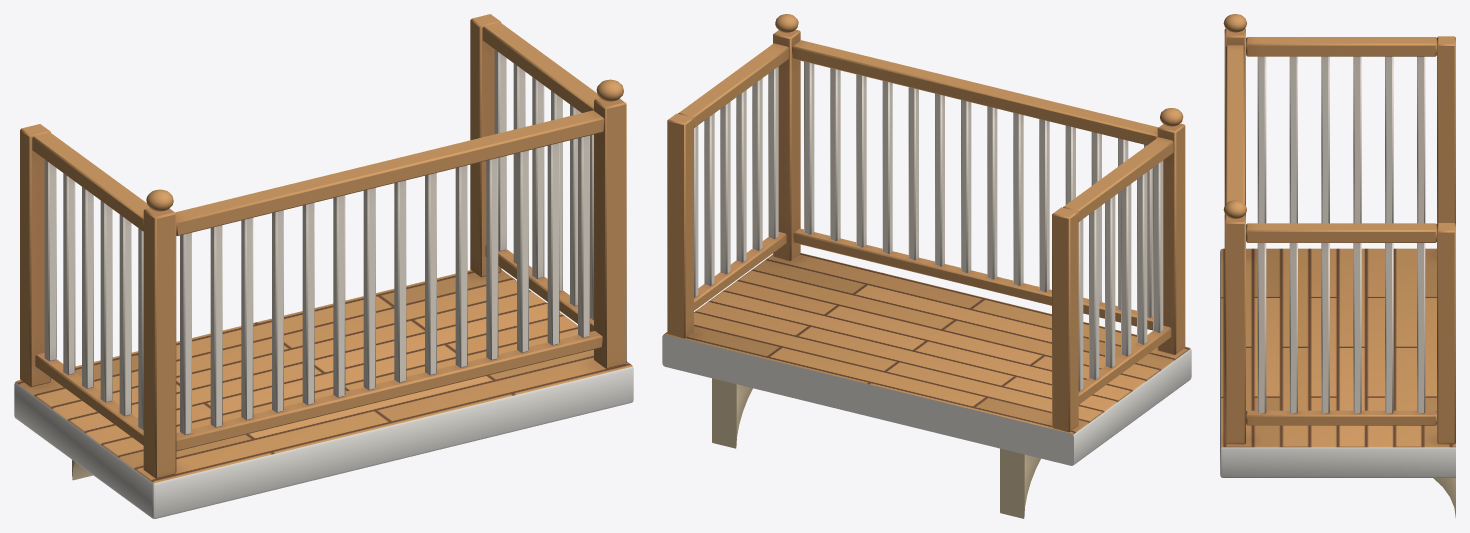
File: balcony.glb
The picture shows the model from 3 angles, left to right: view 1: azimuth 30°, elevation 25°; view 2: azimuth 150°, elevation 25°; view 3: azimuth 270°, elevation 25°; orthographic projection. The views are drawn at different scales.
Visible parts, largest first — view 1: balcony_body; view 2: balcony_body; view 3: balcony_body.
Boxes of the visible parts, x1,y1,x2,y2 form: balcony_body: (14,14,633,518); balcony_body: (662,14,1191,518); balcony_body: (1220,14,1455,517).
Size of the model in its own units: 2 by 1.57 by 1.
1 material, 1 textured.
